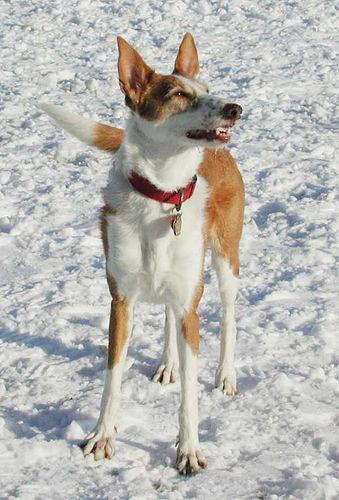Ibizan_hound: (36, 33, 248, 477)
